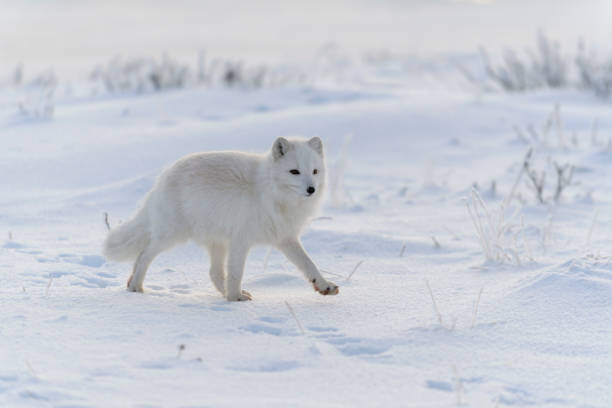arcticfox: (269, 144, 320, 205)
